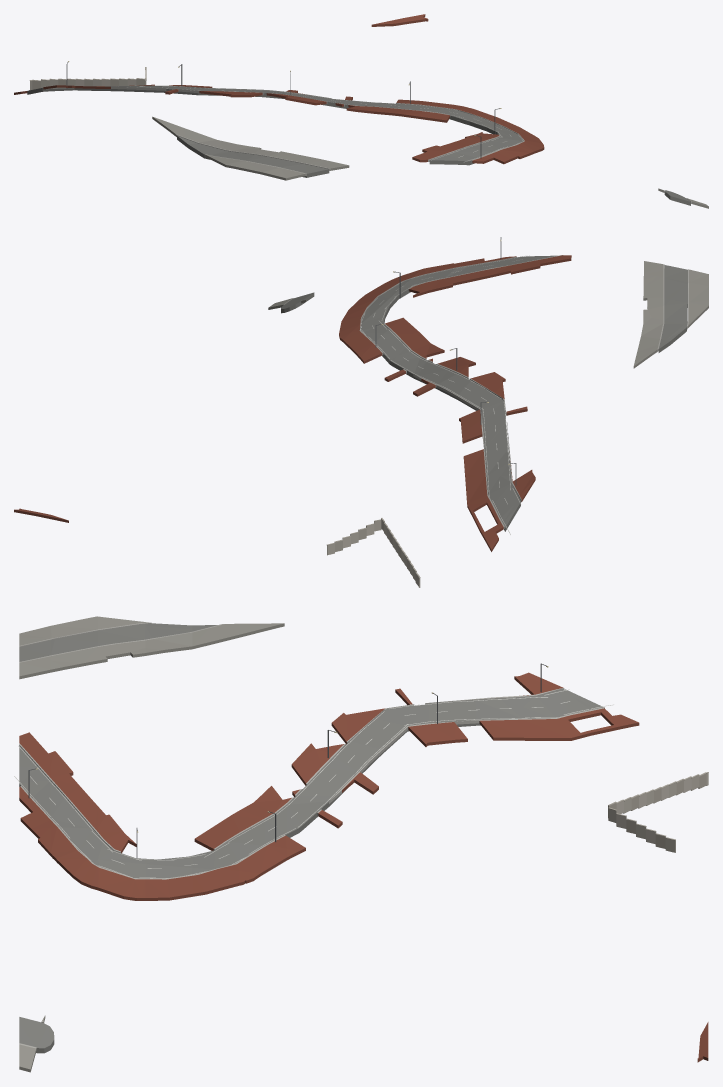
3 views of the same model, one above another, from view 1: azimuth 30°, elevation 25°; view 2: azimuth 150°, elevation 25°; view 3: azimuth 270°, elevation 25° (orthographic). The views are drawn at different scales.
Size of the model in its own units: 145 by 40.74 by 147.
